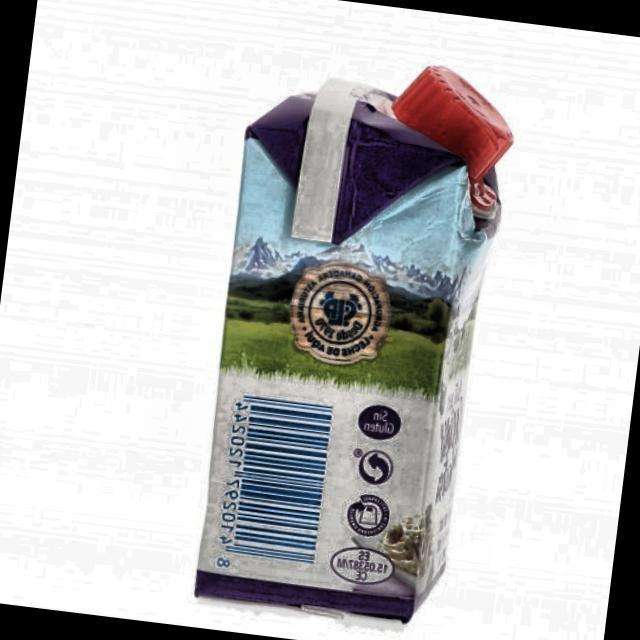cardboard: (186, 53, 518, 633)
